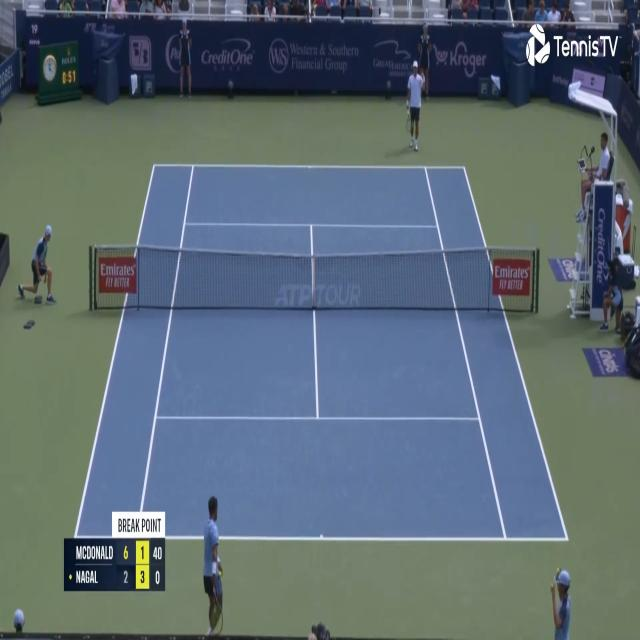tennis-player: (201, 494, 224, 636), (403, 58, 427, 154)
